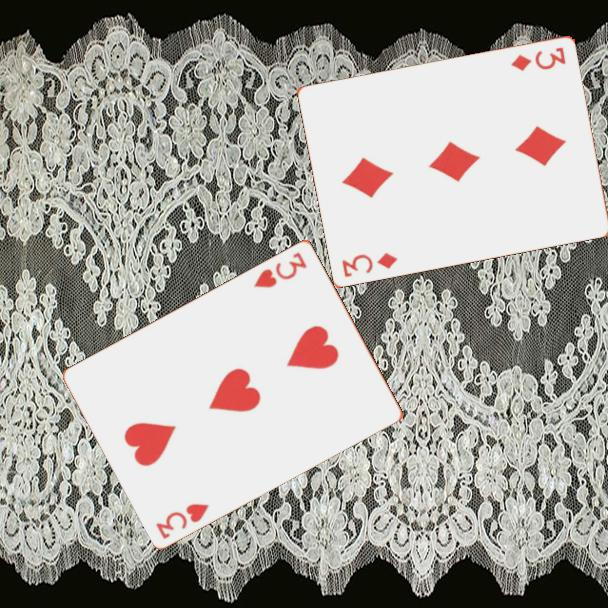d03: (339, 249, 400, 280), (508, 43, 569, 73)
h03: (152, 499, 212, 542), (250, 248, 310, 290)
